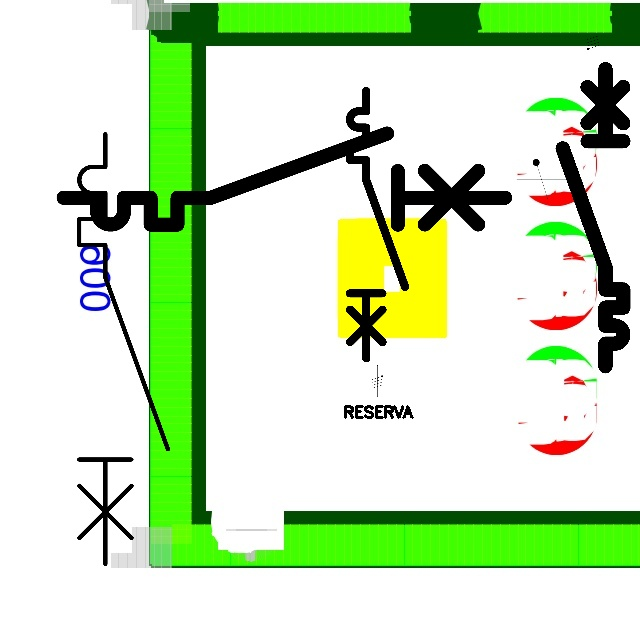interruptor_termomagnetico: (52, 122, 516, 236), (68, 123, 178, 575), (555, 61, 631, 373), (343, 84, 412, 365)
